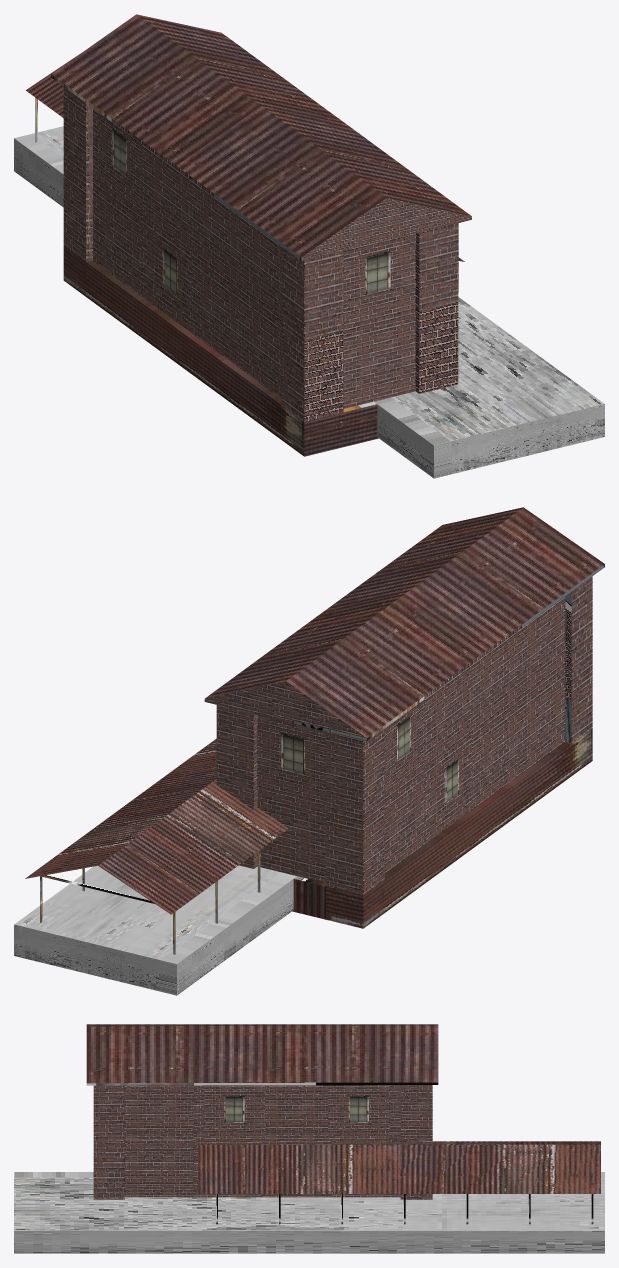
The model's file is Station.gltf.
3 renders of one model, top to bottom at view 1: azimuth 30°, elevation 25°; view 2: azimuth 150°, elevation 25°; view 3: azimuth 270°, elevation 25°, orthographic. The views are drawn at different scales.
Parts seen in each view (by area): view 1: Wind.002; view 2: Wind.002; view 3: Wind.002.
Part boxes in pixels (x1,y1,x2,y2): Wind.002: (14,14,604,478); Wind.002: (14,507,604,995); Wind.002: (14,1024,604,1253).
Bounding box in the file's own units: 3.27 × 3.03 × 9.45.
1 material, 1 textured.
